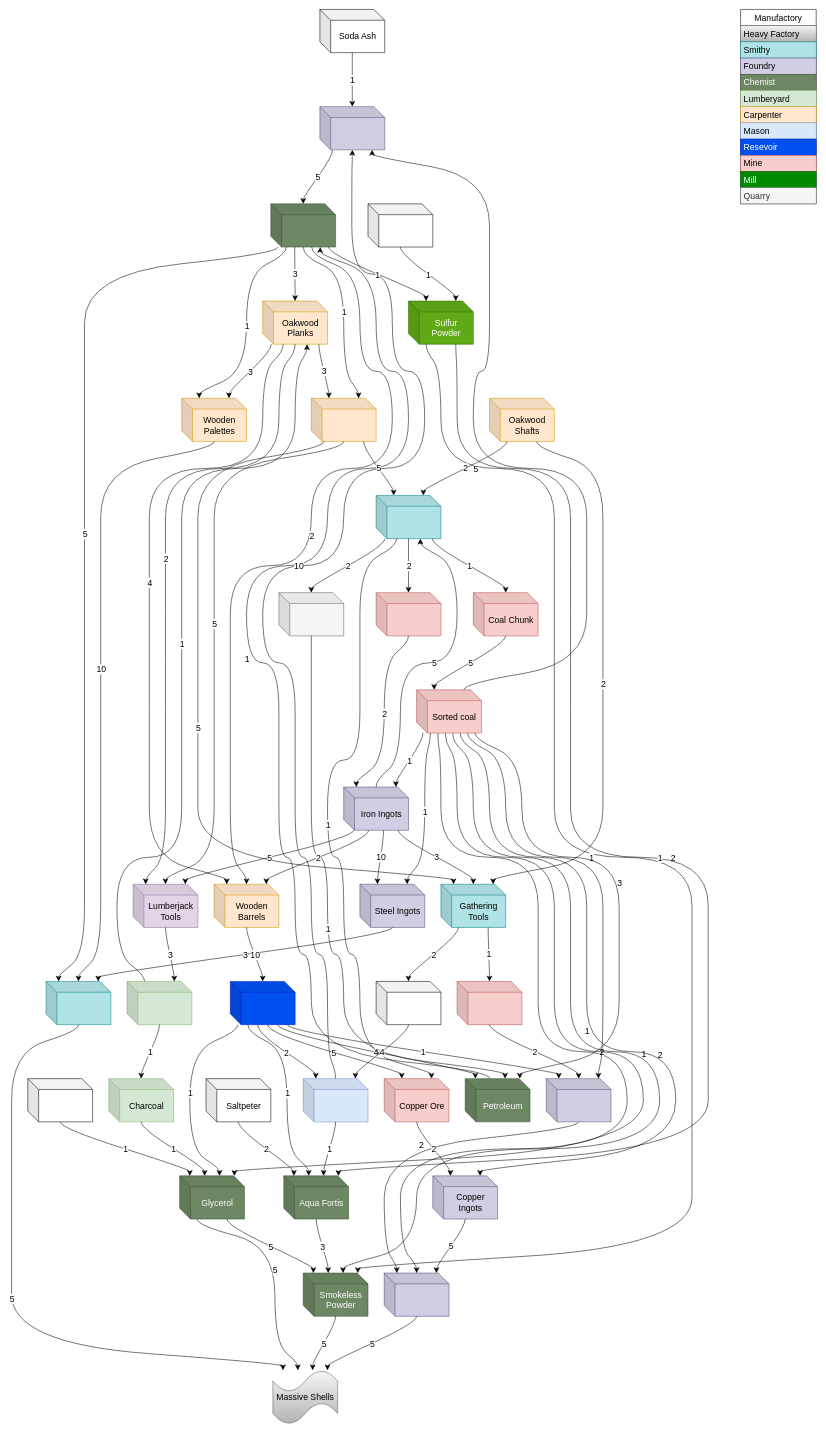
The diagram is 826 pixels wide and 1434 high, and some of its shapes have lost their labels. The shapes that lost their labels are listed below. From the top down, each one's centre as x and y in pixels, then its label:
point 352,128: Glassware
point 303,225: Machine Oil
point 400,225: Purified Sulfur
point 343,419: Empty Crates
point 408,517: Extraction Tools
point 311,614: Crude Oil
point 408,614: Iron Ore
point 78,1003: Steel Plates
point 159,1003: Oakwood Logs
point 262,1003: Water
point 408,1003: Sand Pile
point 489,1003: Tin Pile
point 60,1100: Animal Fats
point 335,1100: Fine Sand
point 578,1100: Tin Ingots
point 416,1294: Bronze Ingots
